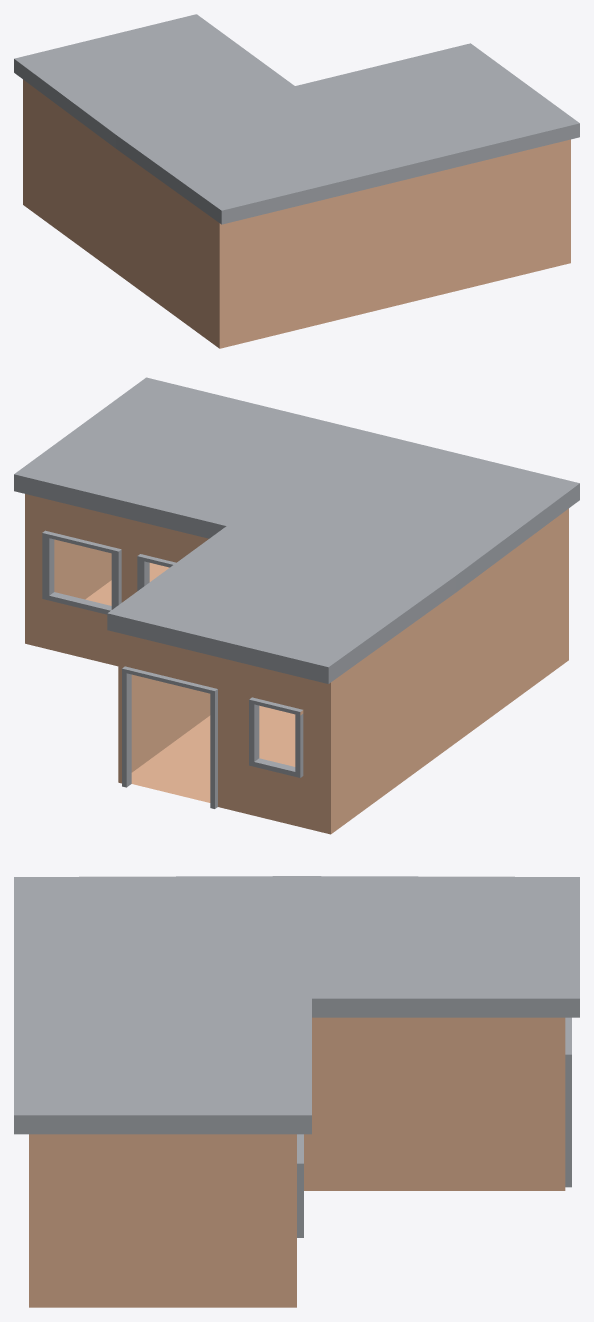
Rendered from Bld_R_med_L3_C.fbx.
3 renders of one model, top to bottom at view 1: azimuth 30°, elevation 25°; view 2: azimuth 150°, elevation 25°; view 3: azimuth 270°, elevation 25°, orthographic. The views are drawn at different scales.
Visible parts, largest first — view 1: Bld_R_med_L3_C_LOD0; view 2: Bld_R_med_L3_C_LOD0; view 3: Bld_R_med_L3_C_LOD0.
Part boxes in pixels (x1=…): Bld_R_med_L3_C_LOD0: x1=14, y1=14, x2=579, y2=348; Bld_R_med_L3_C_LOD0: x1=14, y1=377, x2=579, y2=834; Bld_R_med_L3_C_LOD0: x1=14, y1=876, x2=579, y2=1307.
Size of what is drawn, in the model's own units: 1400 by 842 by 1400.
Materials: 1 (1 with a texture image).
